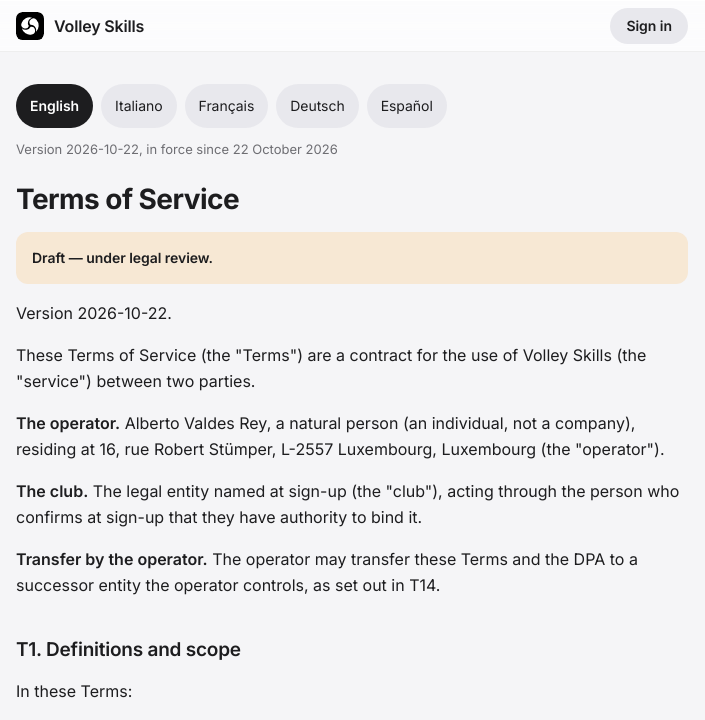
Test: LegalDocPage › switches language on click
This screenshot has width=705, height=720.
Click the button "Deutsch". click: (318, 106)
box: 276,84 -> 359,128
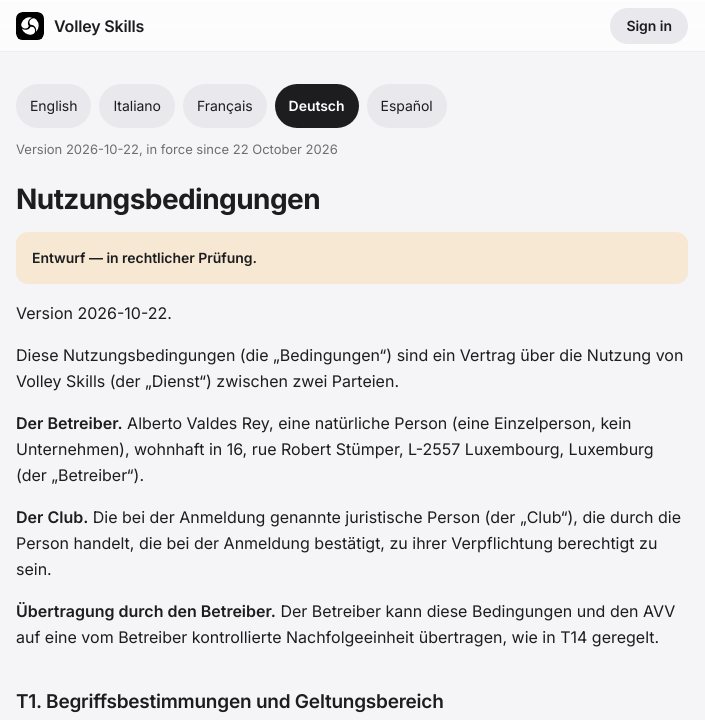
Expected: the text "Entwurf — in rechtlicher Prüfung." is shown, 32,249 -> 257,266
